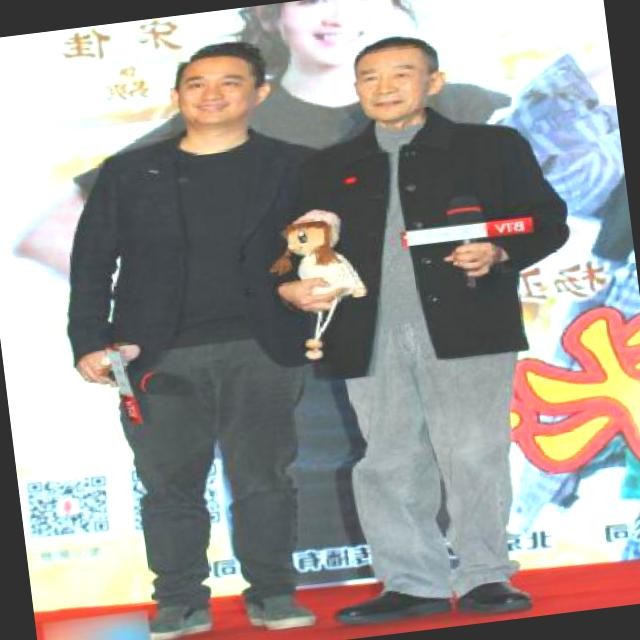Person: (260, 14, 610, 636), (19, 28, 353, 640)
